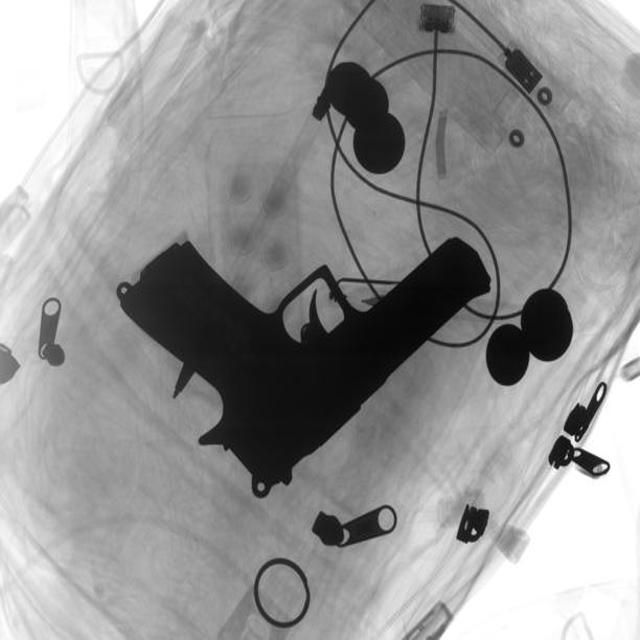gun: (114, 220, 496, 494)
